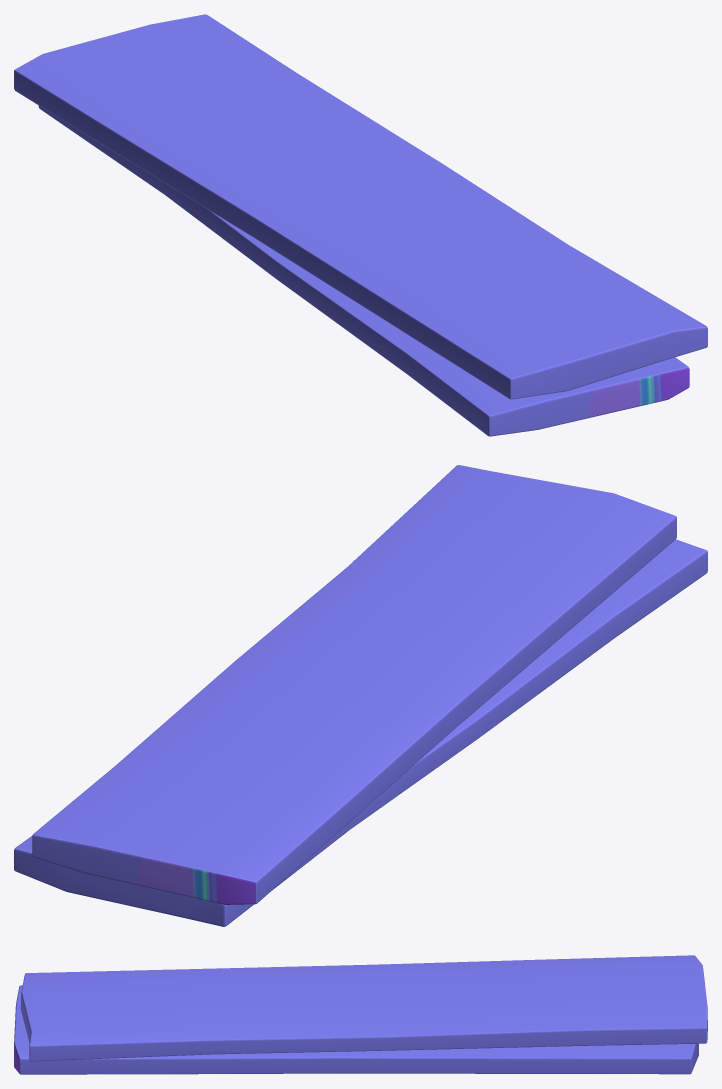
File: sm_plank_01.fbx
The picture shows the model from 3 angles, top to bottom: view 1: azimuth 30°, elevation 25°; view 2: azimuth 150°, elevation 25°; view 3: azimuth 270°, elevation 25°; orthographic projection. The views are drawn at different scales.
Visible parts, largest first — view 1: sm_plank_01; view 2: sm_plank_01; view 3: sm_plank_01.
Boxes of the visible parts, box(x1,y1,x2,y2) form: sm_plank_01: box(14, 14, 707, 436); sm_plank_01: box(14, 465, 707, 926); sm_plank_01: box(14, 955, 707, 1074).
Size of the model in its own units: 38.69 by 8.45 by 121.
1 material, 1 textured.
